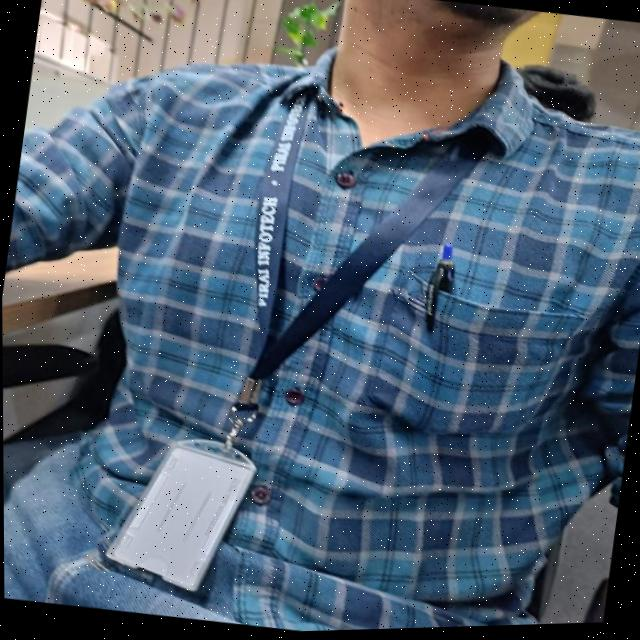id_card: (94, 67, 507, 632)
